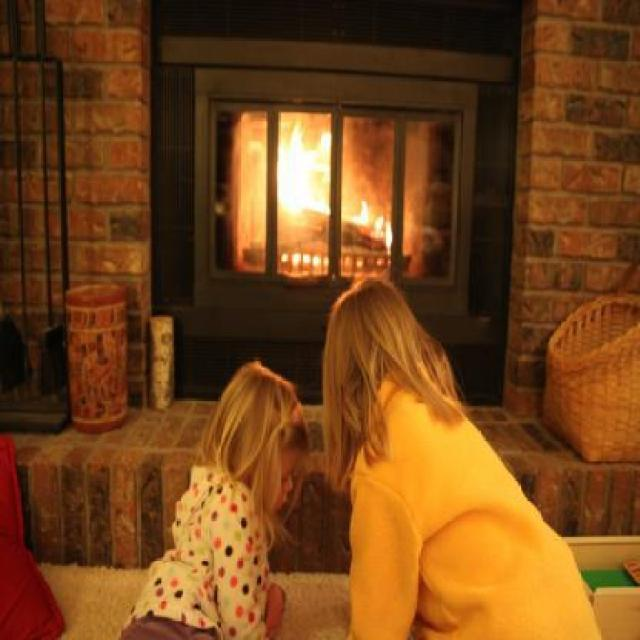Fire: (268, 116, 334, 213), (348, 200, 386, 232)
